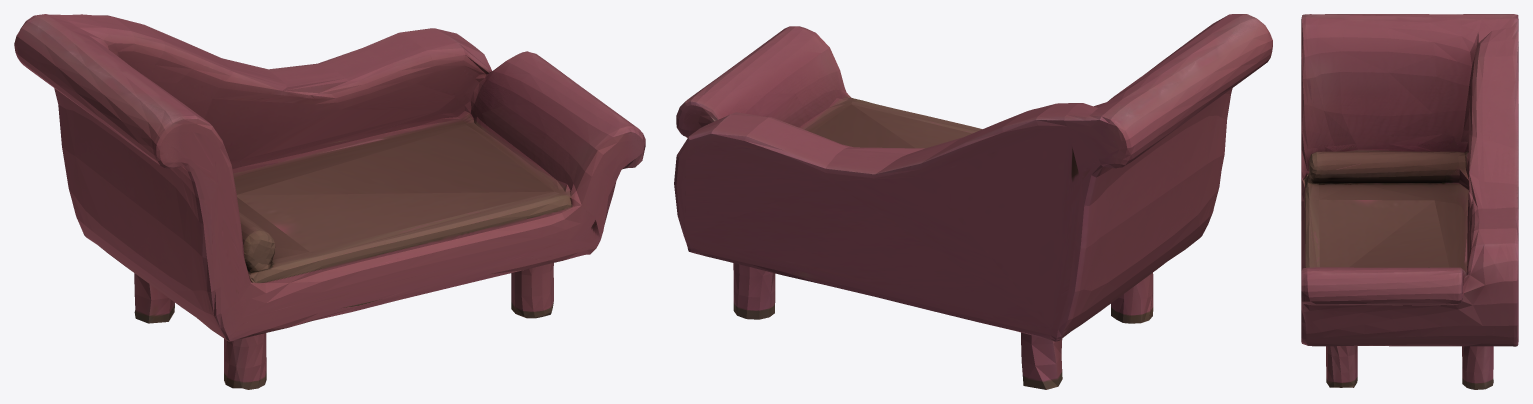
The model's file is lounge.fbx.
3 renders of one model, left to right at view 1: azimuth 30°, elevation 25°; view 2: azimuth 150°, elevation 25°; view 3: azimuth 270°, elevation 25°, orthographic. The views are drawn at different scales.
Parts seen in each view (by area): view 1: Mesh_0; view 2: Mesh_0; view 3: Mesh_0.
Part boxes in pixels (bbox=[...]): Mesh_0: bbox=[14, 14, 645, 389]; Mesh_0: bbox=[674, 14, 1272, 389]; Mesh_0: bbox=[1301, 14, 1518, 389].
Size of the model in its own units: 3.82 by 2.25 by 1.93.
Materials: 1 (1 with a texture image).
